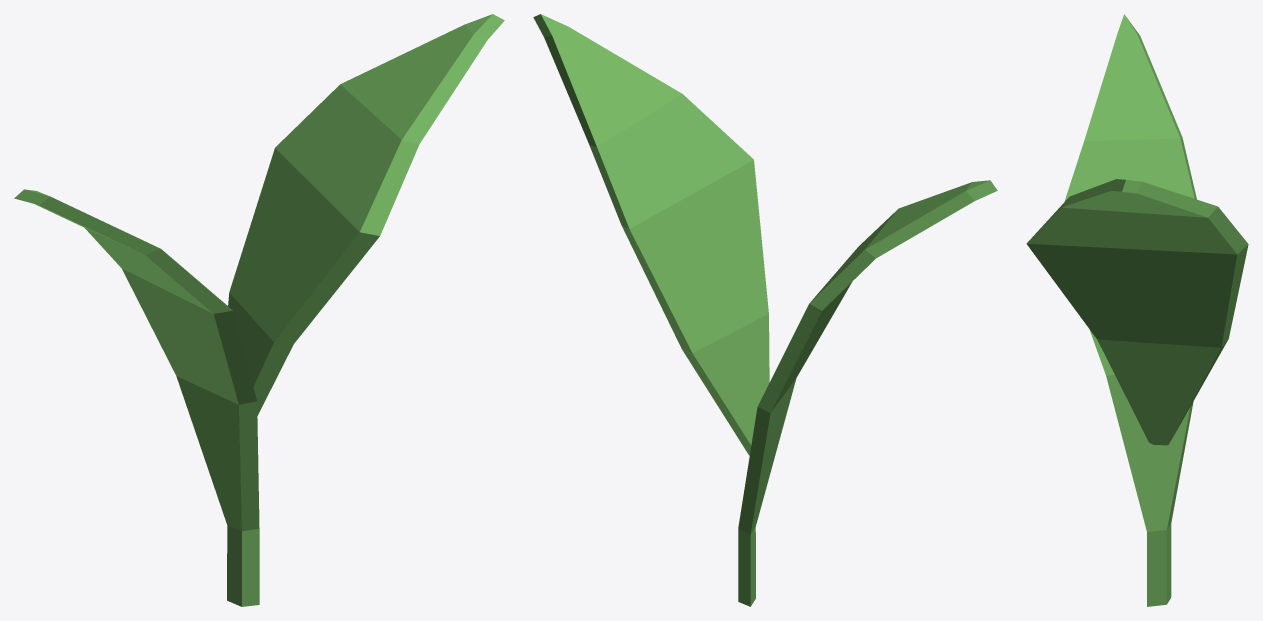
Rendered from Lettuce_1-optimized.glb.
3 renders of one model, left to right at view 1: azimuth 30°, elevation 25°; view 2: azimuth 150°, elevation 25°; view 3: azimuth 270°, elevation 25°, orthographic. The views are drawn at different scales.
Visible parts, largest first — view 1: Lettuce_1; view 2: Lettuce_1; view 3: Lettuce_1.
Part boxes in pixels (left/top/right/bottom): Lettuce_1: left=14, top=14, right=504, bottom=606; Lettuce_1: left=533, top=14, right=997, bottom=606; Lettuce_1: left=1026, top=14, right=1248, bottom=606.
Bounding box in the file's own units: 0.2761 × 0.2941 × 0.111.
